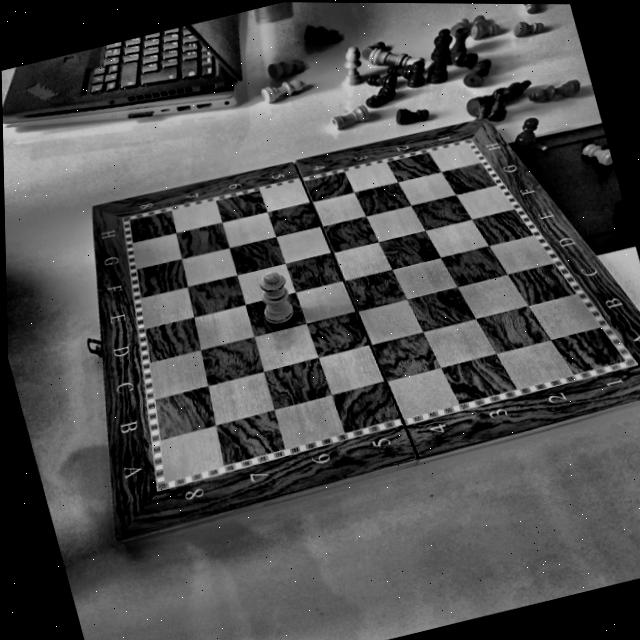white-queen: (250, 265, 305, 331)
